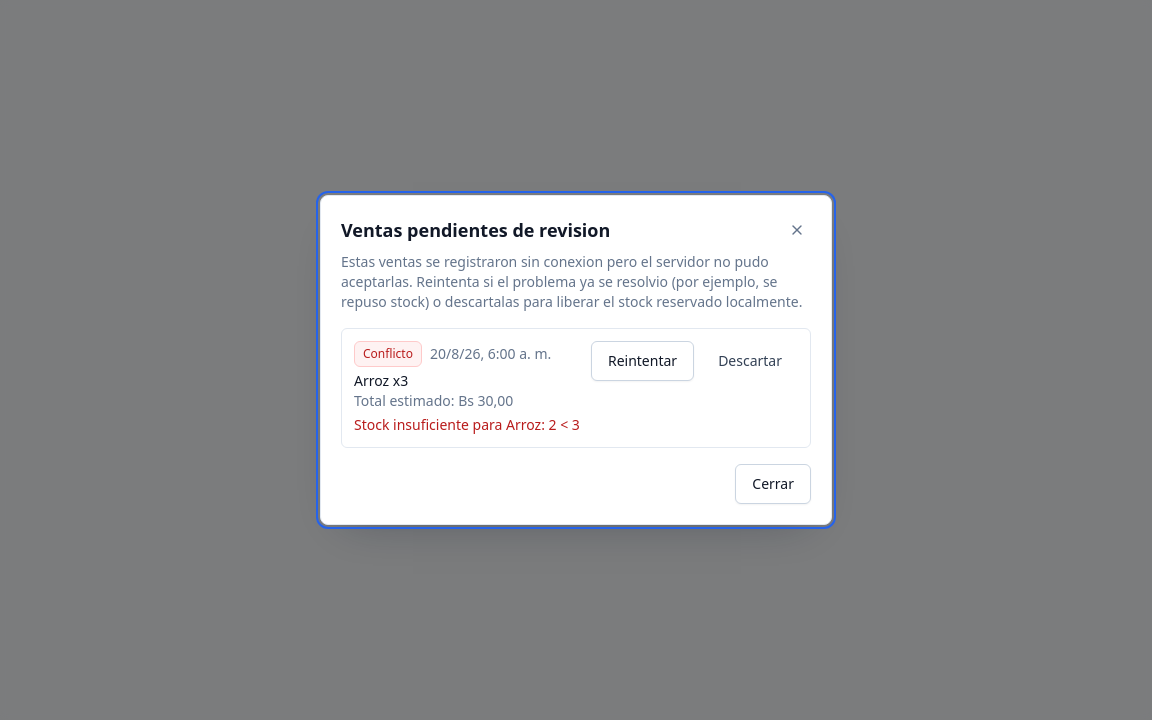
Test: SyncConflictsDialog › lists a conflicted sale with its error and lets the user discard it, restoring stock
Expected: the text "Arroz x3" is shown, [354,371,408,390]
Expected: the text "Stock insuficiente para Arroz: 2 < 3" is shown, [354,415,580,435]
Click the button "Descartar". click: x=750, y=361
box: [702,341,798,381]
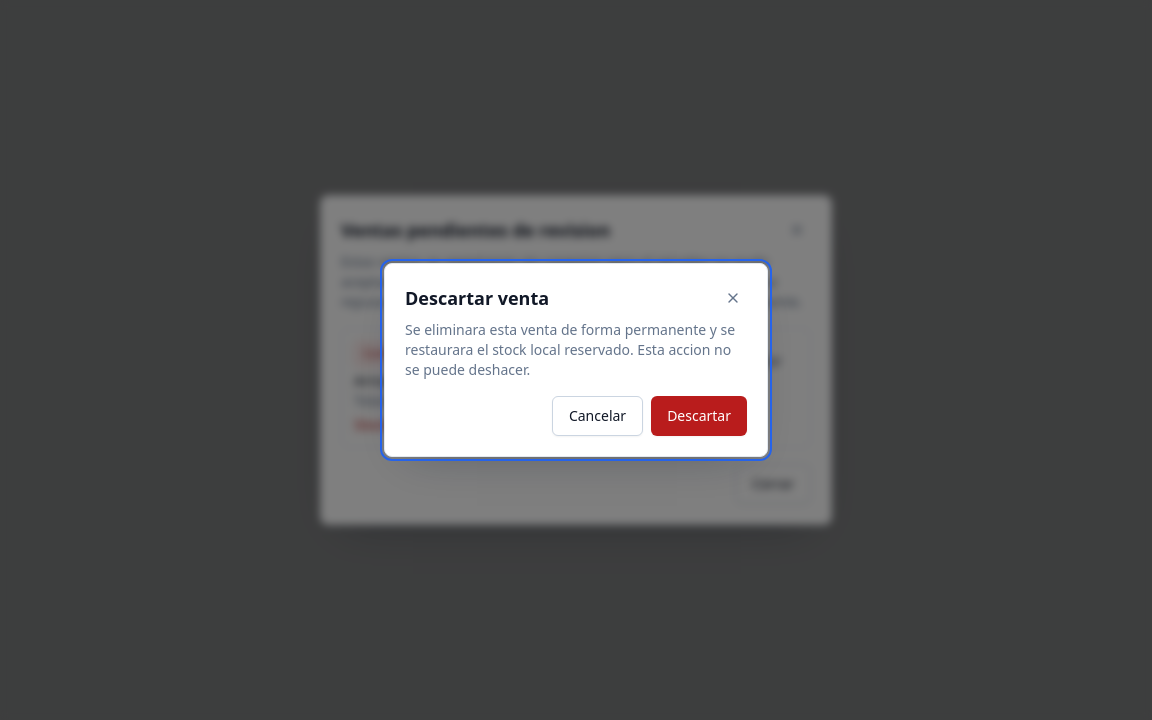
Click the button "Descartar". click: x=699, y=416
box: [651,396,747,436]
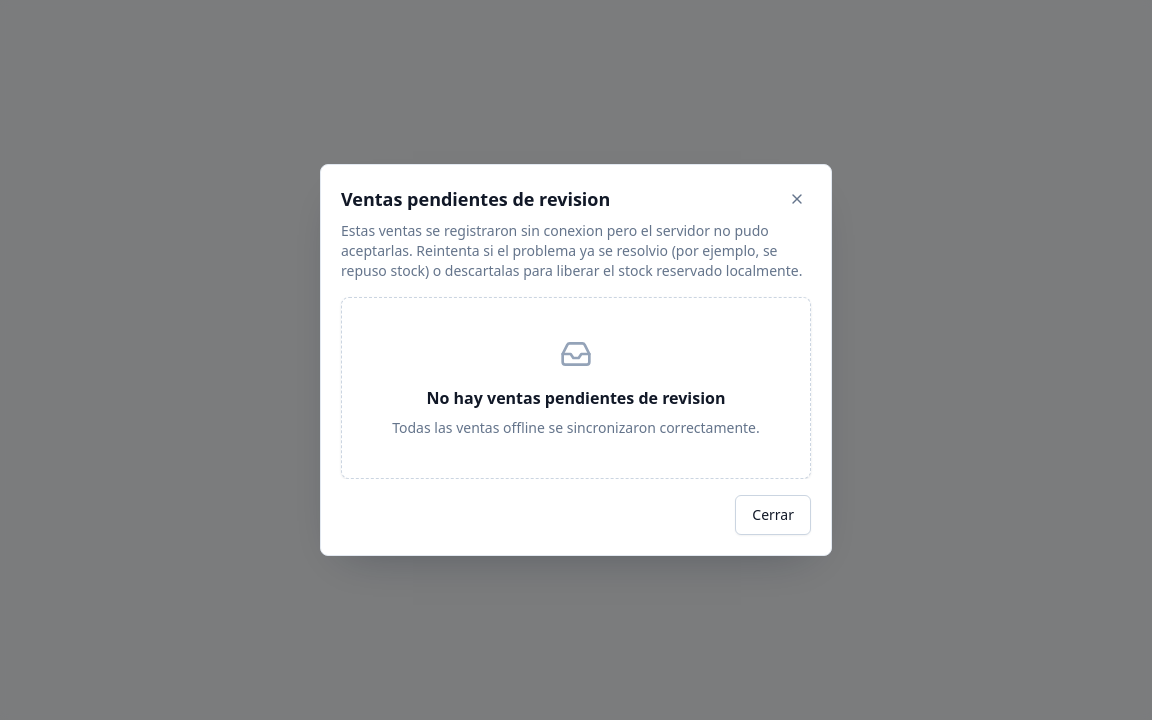
Now the heading "No hay ventas pendientes de revision" is shown, box [426,387,726,409]
